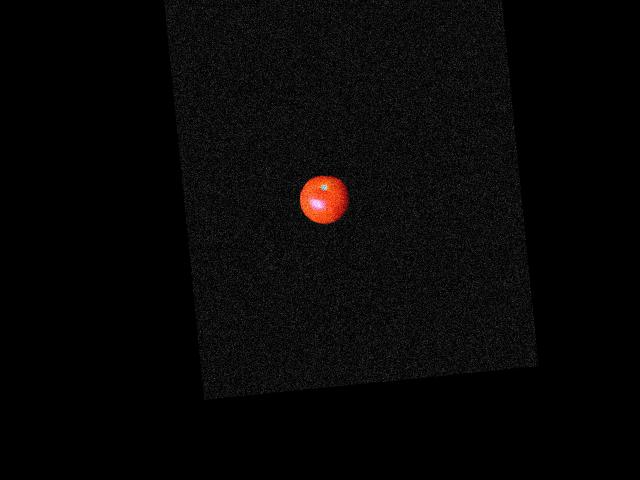tomato: (297, 173, 352, 226)
